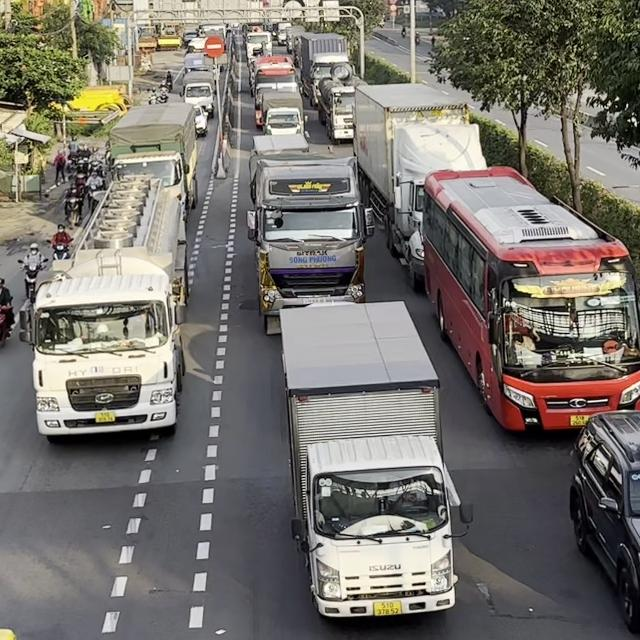bus: (420, 164, 639, 433)
car: (568, 408, 639, 634)
motorcycle: (16, 256, 48, 300), (62, 189, 84, 226), (0, 298, 15, 348), (48, 239, 71, 261)
truck: (278, 299, 473, 620), (21, 178, 190, 441), (351, 81, 488, 286), (245, 150, 374, 336), (103, 102, 199, 210), (292, 31, 349, 106), (315, 71, 369, 144)
